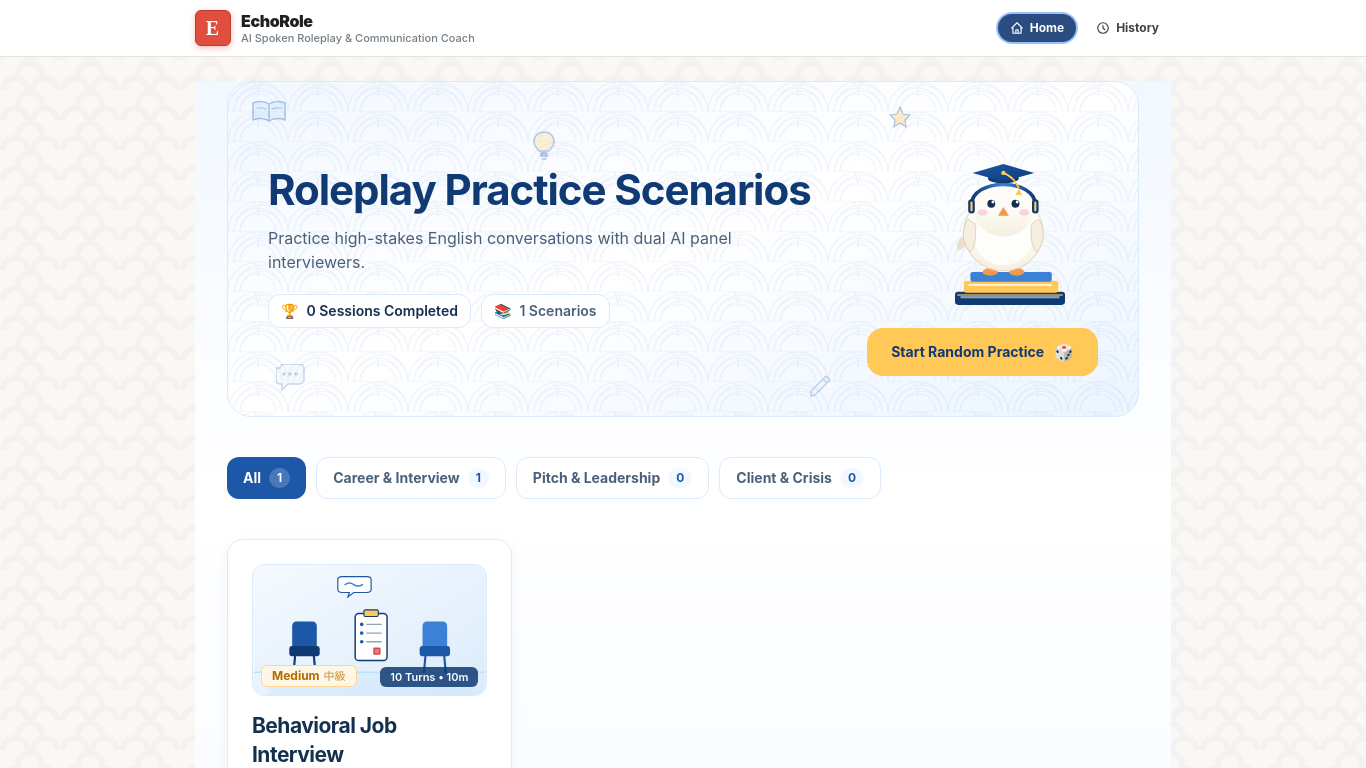
Test case: EchoRole App Integration › navigates to History tab and back to Home using the header navigation
The image size is (1366, 768).
Click the button "History": (1128, 28) [1084,14,1171,42]
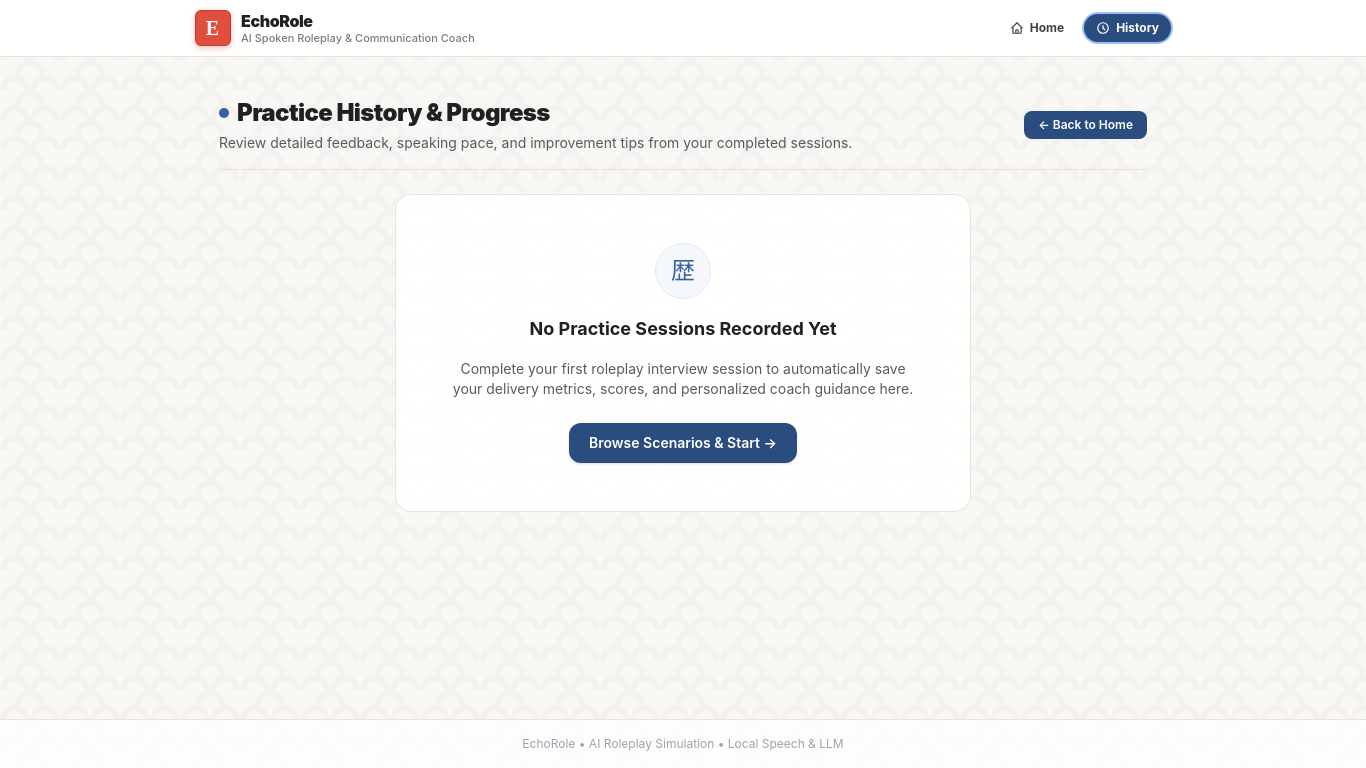
Now the heading "Practice History & Progress" is shown, box [237,97,550,129]
Click the button "Home": (1037, 28) [998,14,1076,42]
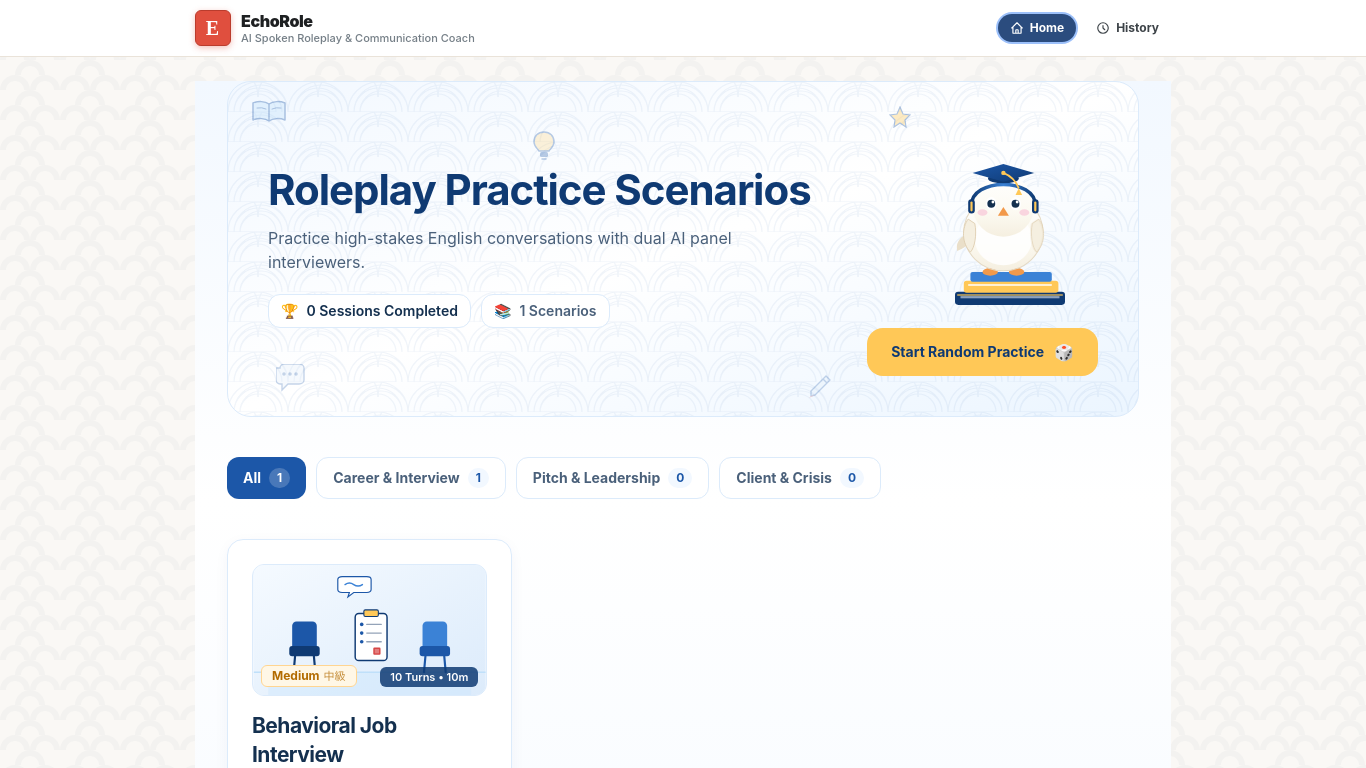
Now the heading "Roleplay Practice Scenarios" is shown, box [268,170,811,210]
